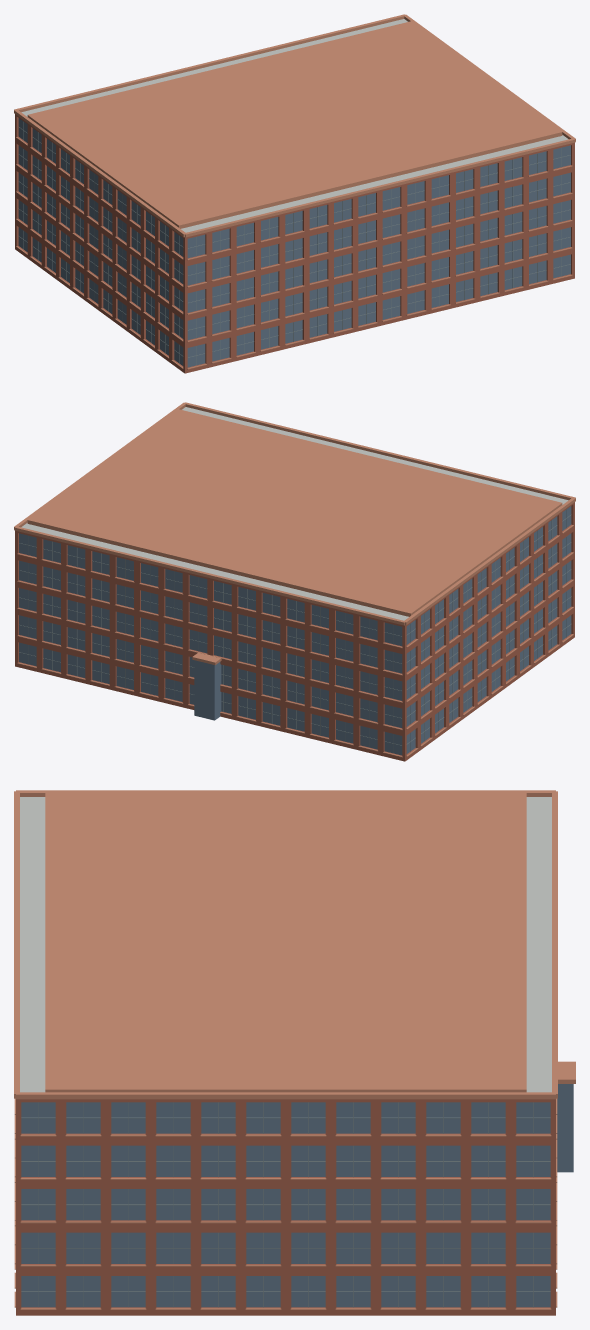
File: hospital_opd.glb
3 views of the same model, one above another, from view 1: azimuth 30°, elevation 25°; view 2: azimuth 150°, elevation 25°; view 3: azimuth 270°, elevation 25° (orthographic). The views are drawn at different scales.
Visible parts, largest first — view 1: trim, glass, wall, metal, roof; view 2: trim, glass, wall, metal, roof; view 3: trim, glass, wall, roof, metal.
Part boxes in pixels (x1=…): trim: x1=14, y1=14, x2=575, y2=369; glass: x1=18, y1=118, x2=570, y2=367; wall: x1=15, y1=114, x2=574, y2=373; metal: x1=18, y1=122, x2=570, y2=365; roof: x1=21, y1=19, x2=568, y2=232; trim: x1=14, y1=402, x2=575, y2=757; glass: x1=19, y1=506, x2=571, y2=755; wall: x1=15, y1=502, x2=574, y2=761; metal: x1=19, y1=510, x2=571, y2=753; roof: x1=21, y1=407, x2=568, y2=620; trim: x1=14, y1=790, x2=575, y2=1309; glass: x1=21, y1=1084, x2=573, y2=1307; wall: x1=16, y1=1099, x2=555, y2=1315; roof: x1=20, y1=797, x2=551, y2=1092; metal: x1=21, y1=1102, x2=550, y2=1307.
Bounding box in the file's own units: 61.34 × 21 × 47.87.
